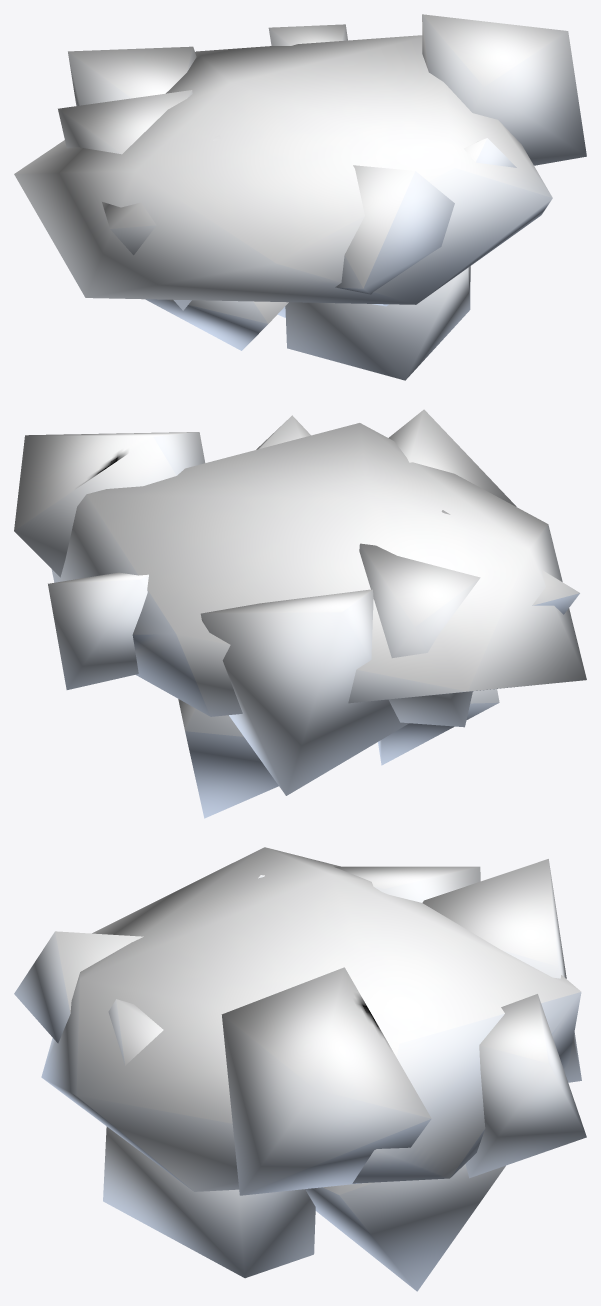
Rendered from cloud_island_a_lod1.gltf.
The picture shows the model from 3 angles, top to bottom: view 1: azimuth 30°, elevation 25°; view 2: azimuth 150°, elevation 25°; view 3: azimuth 270°, elevation 25°; orthographic projection. The views are drawn at different scales.
Parts seen in each view (by area): view 1: cloud_island_a_LOD1; view 2: cloud_island_a_LOD1; view 3: cloud_island_a_LOD1.
Boxes of the visible parts, x1,y1,x2,y2 form: cloud_island_a_LOD1: (14,14,586,380); cloud_island_a_LOD1: (14,409,586,818); cloud_island_a_LOD1: (14,847,586,1291).
Size of the model in its own units: 5.49 by 3.3 by 4.63.
1 material, 1 textured.
